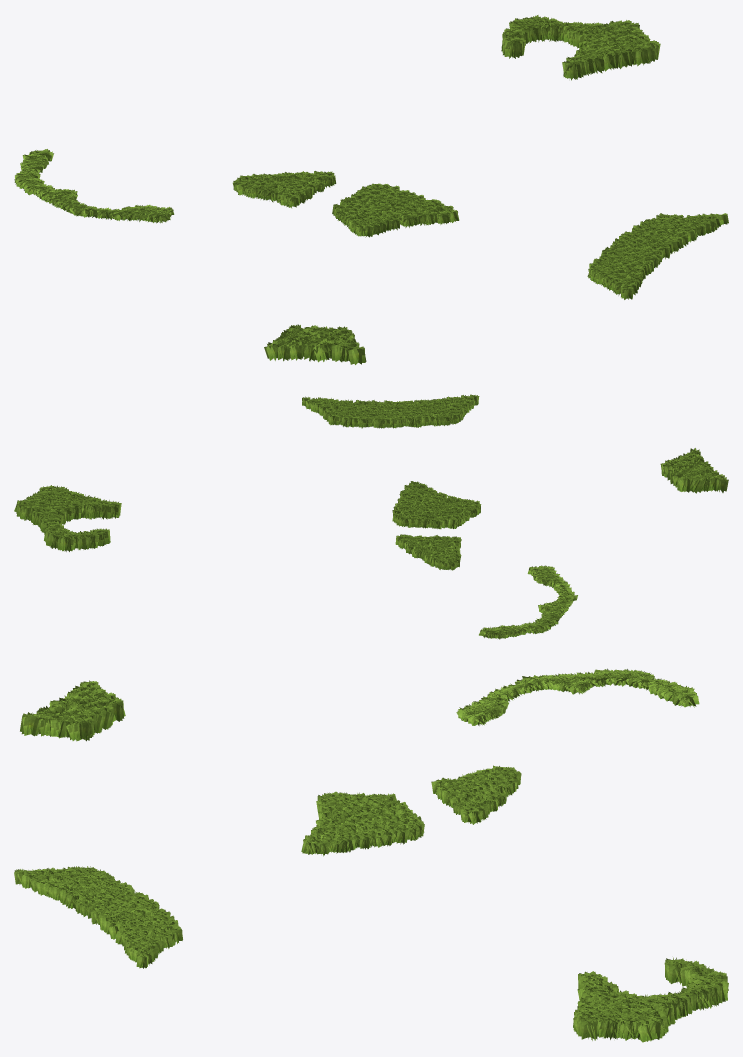
Rendered from Grass.fbx.
3 renders of one model, top to bottom at view 1: azimuth 30°, elevation 25°; view 2: azimuth 150°, elevation 25°; view 3: azimuth 270°, elevation 25°, orthographic. The views are drawn at different scales.
Visible parts, largest first — view 1: Grass.004, Grass.003, Grass.001, Grass.006, Grass.005, Grass.002; view 2: Grass.003, Grass.004, Grass.001, Grass.006, Grass.005, Grass.002; view 3: Grass.004, Grass.003, Grass.001, Grass.006, Grass.005, Grass.002.
Part boxes in pixels (bbox=[...]): Grass.004: bbox=[501, 15, 660, 80]; Grass.003: bbox=[587, 213, 728, 299]; Grass.001: bbox=[332, 183, 459, 237]; Grass.006: bbox=[14, 149, 174, 223]; Grass.005: bbox=[264, 324, 366, 364]; Grass.002: bbox=[232, 171, 336, 208]; Grass.003: bbox=[302, 394, 479, 428]; Grass.004: bbox=[14, 485, 121, 551]; Grass.001: bbox=[392, 481, 481, 529]; Grass.006: bbox=[479, 565, 577, 639]; Grass.005: bbox=[660, 448, 728, 493]; Grass.002: bbox=[395, 534, 461, 570]; Grass.004: bbox=[573, 957, 728, 1042]; Grass.003: bbox=[14, 866, 182, 968]; Grass.001: bbox=[301, 791, 424, 856]; Grass.006: bbox=[456, 668, 699, 725]; Grass.005: bbox=[20, 680, 125, 741]; Grass.002: bbox=[431, 765, 521, 824].
Bounding box in the file's own units: 6664 × 193 × 5578.
